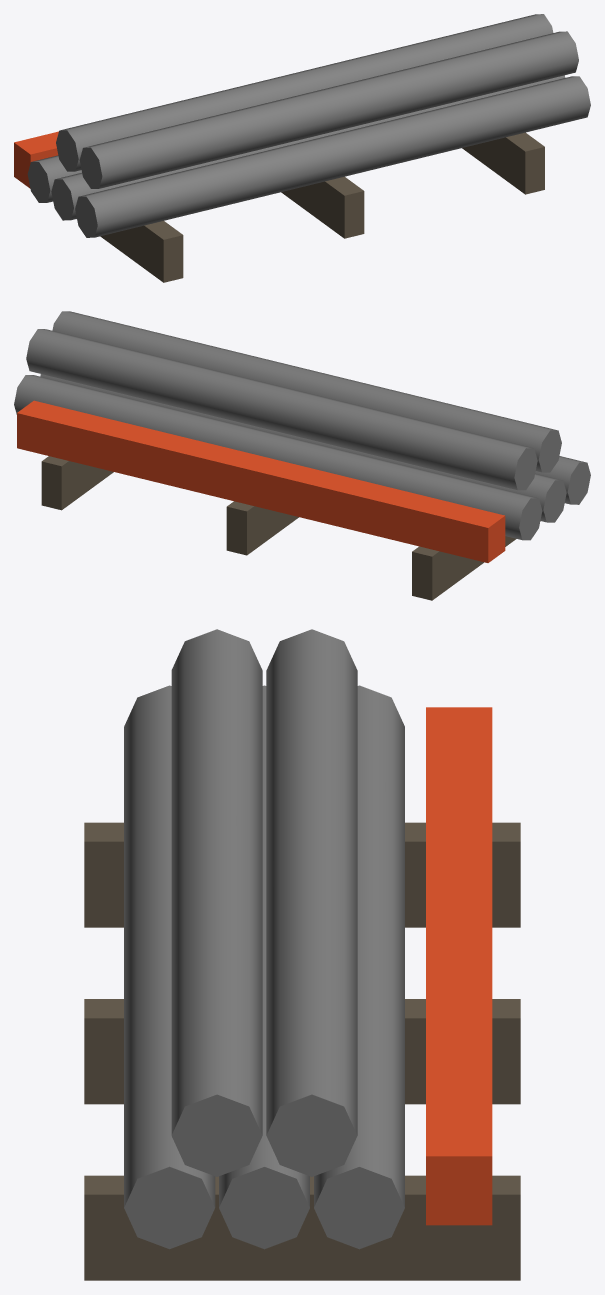
Rendered from site_clutter5.fbx.
3 views of the same model, one above another, from view 1: azimuth 30°, elevation 25°; view 2: azimuth 150°, elevation 25°; view 3: azimuth 270°, elevation 25° (orthographic). The views are drawn at different scales.
Parts seen in each view (by area): view 1: a1022/0/site_clutter5; view 2: a1022/0/site_clutter5; view 3: a1022/0/site_clutter5.
Boxes of the visible parts, left/top/right/bottom form: a1022/0/site_clutter5: left=14, top=14, right=590, bottom=282; a1022/0/site_clutter5: left=14, top=311, right=590, bottom=600; a1022/0/site_clutter5: left=84, top=629, right=520, bottom=1280.
Size of the model in its own units: 6 by 1.4 by 2.3.
